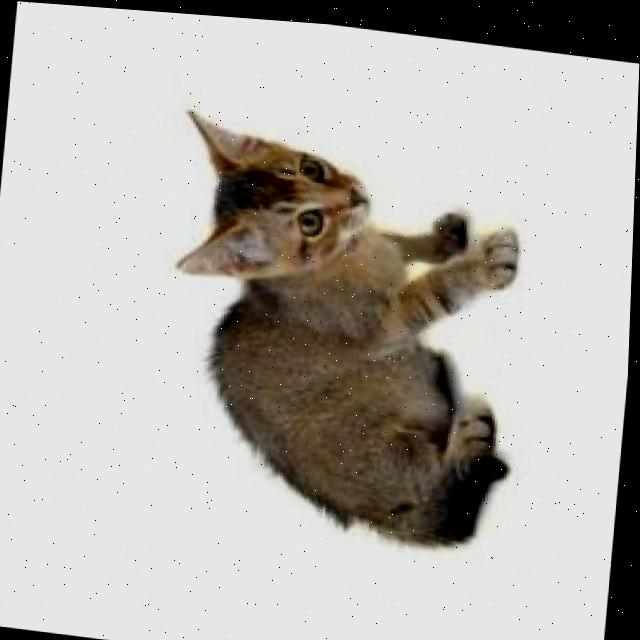Abyssinian: (139, 100, 539, 557)
